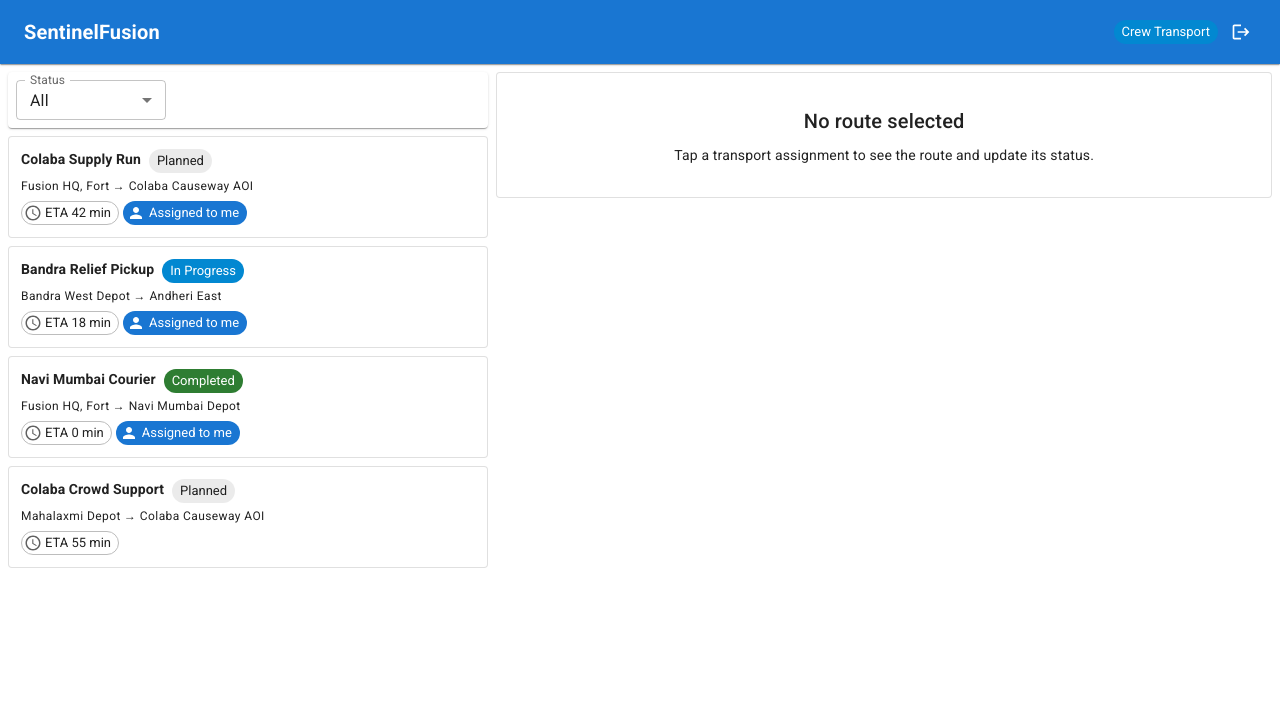
CrewTransportView › shows route details when an assignment is tapped
This screenshot has width=1280, height=720.
Click the heading "Colaba Supply Run" at [81, 161], box [21,149,141,173]
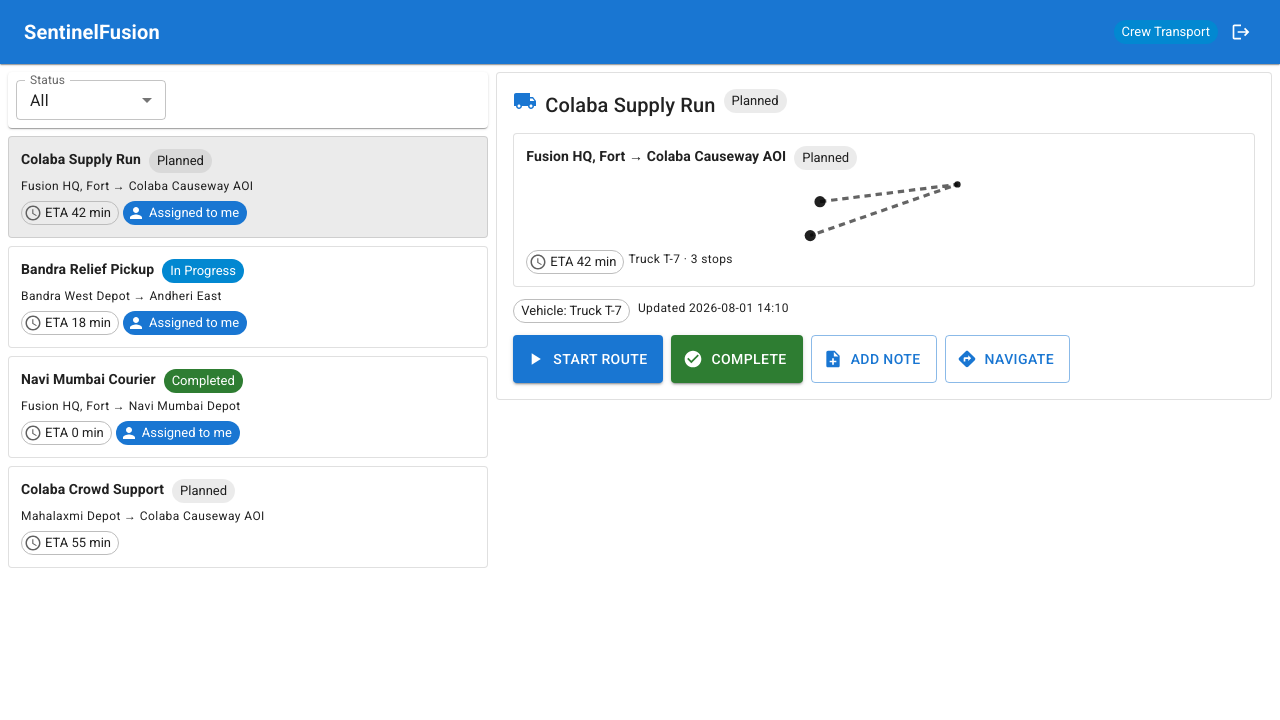
Check: the text "Fusion HQ, Fort → Colaba Causeway AOI" is shown, box [21,179,254,193]
Check: the picture with test id "route-svg" is shown, box [526,178,1242,242]
Check: the text "Vehicle: Truck T-7" is shown, box [514,301,629,321]
